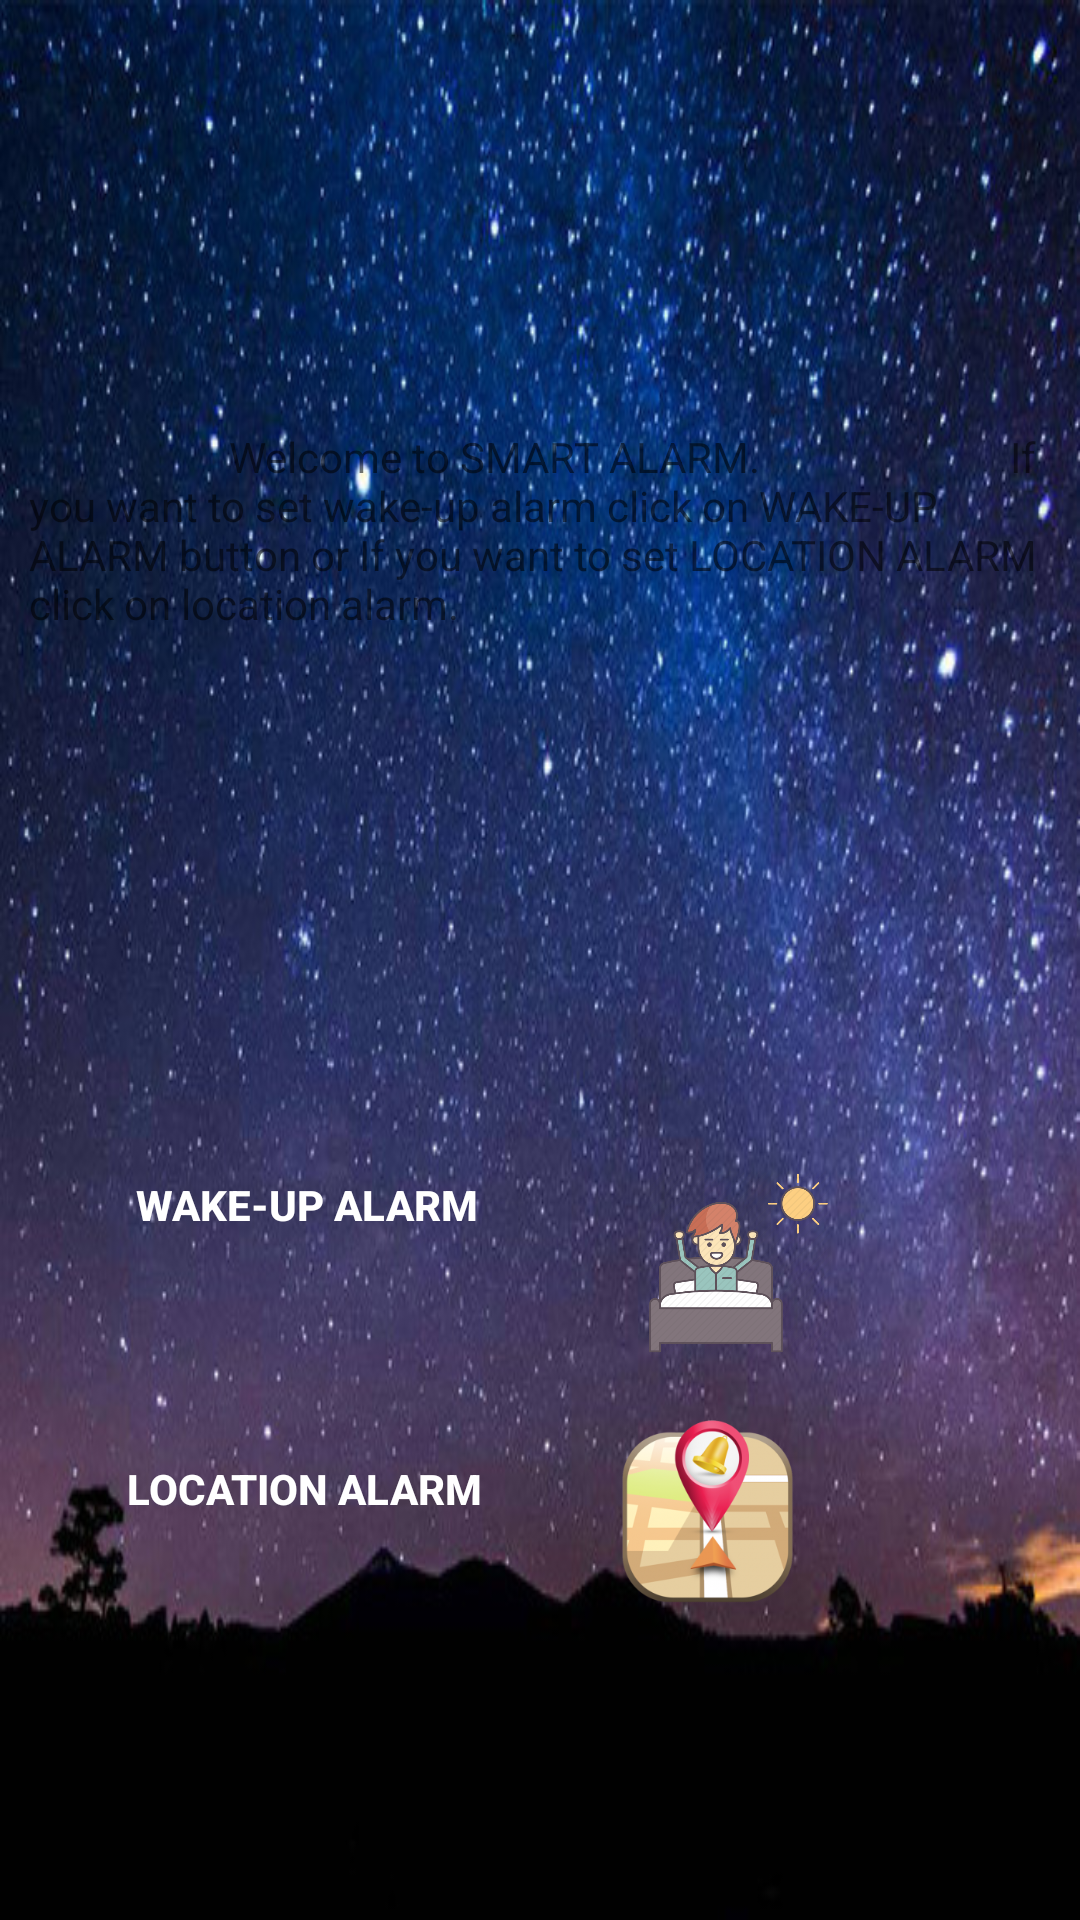

Named icons in this screenshot (1080×1920) and their centers, (x=x, y=y):
wakeupman: (x=738, y=1263)
